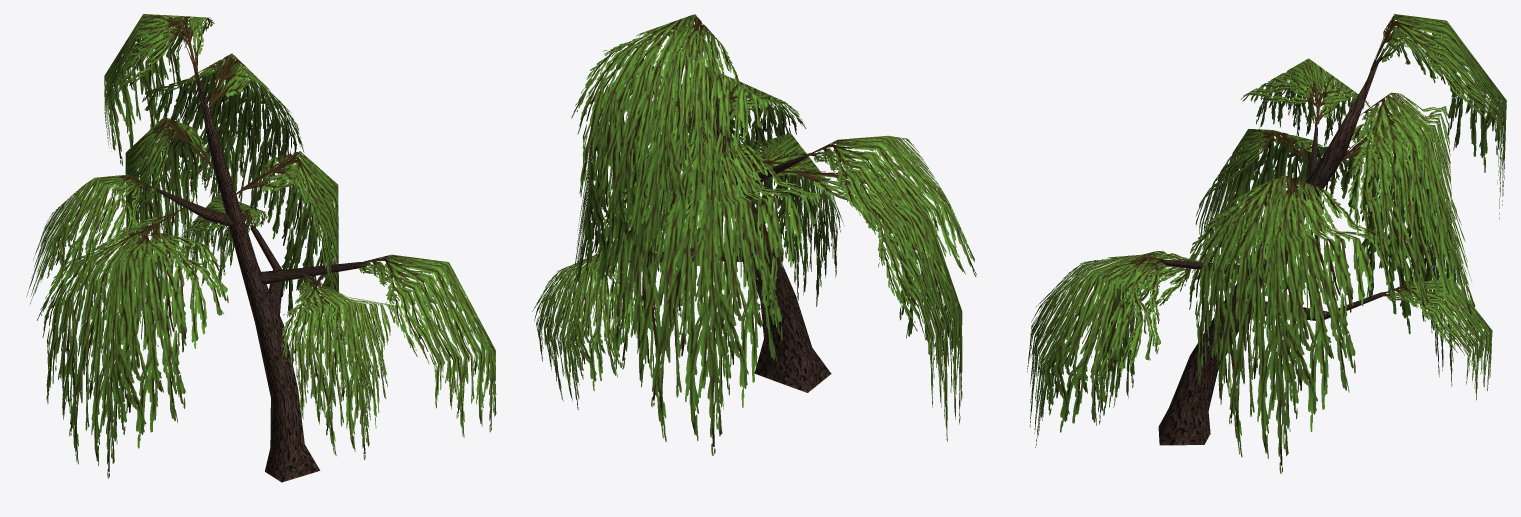
Rendered from Willow01.fbx.
The picture shows the model from 3 angles, left to right: view 1: azimuth 30°, elevation 25°; view 2: azimuth 150°, elevation 25°; view 3: azimuth 270°, elevation 25°; orthographic projection. The views are drawn at different scales.
Visible parts, largest first — view 1: Willow01; view 2: Willow01; view 3: Willow01.
Part boxes in pixels (x1=…): Willow01: x1=26, y1=14, x2=496, y2=482; Willow01: x1=532, y1=14, x2=976, y2=455; Willow01: x1=1027, y1=14, x2=1506, y2=473.
Size of the model in its own units: 1533 by 1506 by 1571.
